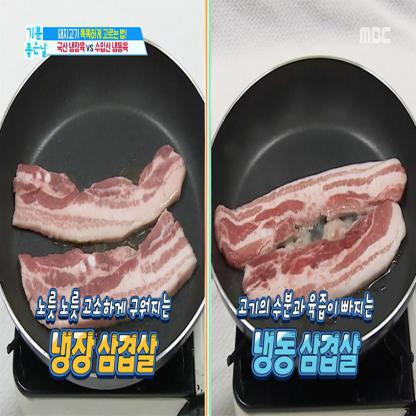pork: (14, 154, 190, 242), (218, 175, 406, 243), (221, 243, 410, 290), (17, 253, 199, 291)
